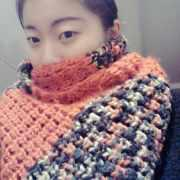WRONG: (19, 13, 112, 106)
